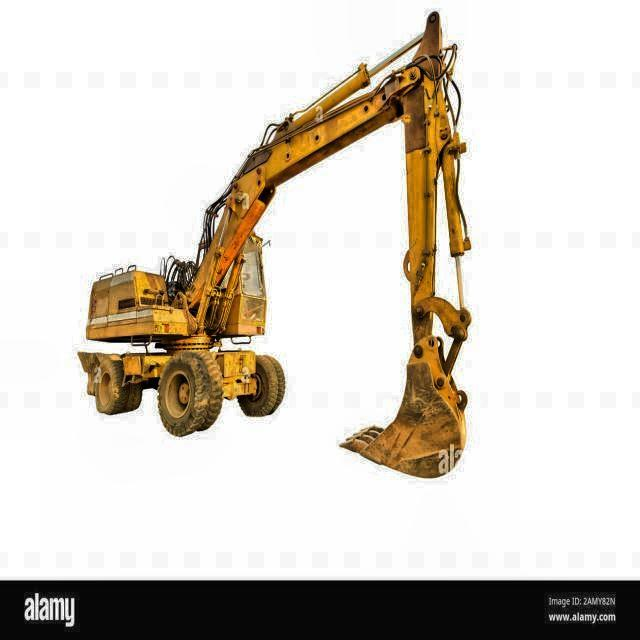excavator: (79, 11, 478, 482)
